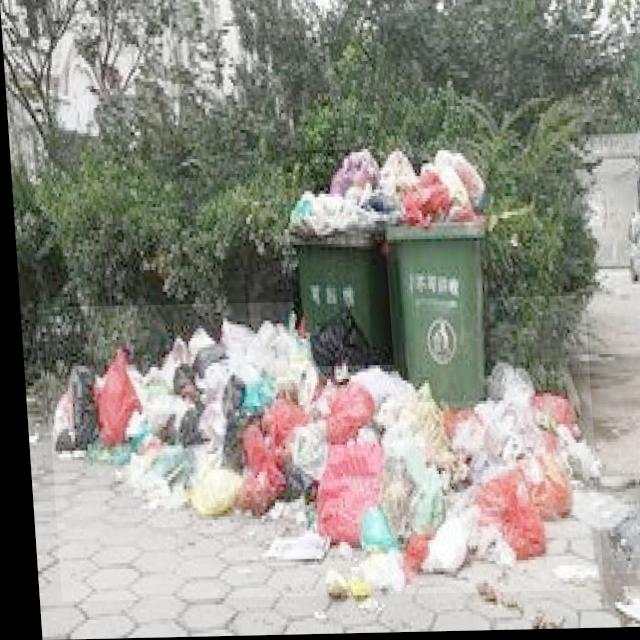garbage: (38, 298, 596, 602)
overflow: (377, 143, 490, 405), (281, 150, 388, 368)
